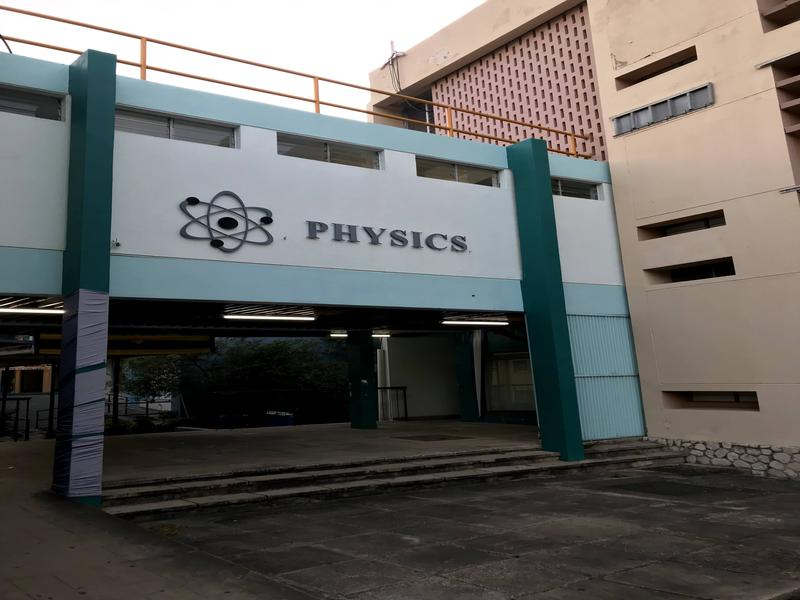18.0053657_-76.7491452_physicssign: (156, 182, 475, 270)
